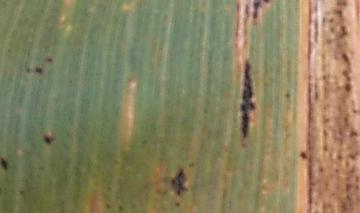tarspot: (239, 59, 256, 137), (172, 169, 188, 196), (43, 133, 55, 145), (252, 1, 260, 19), (339, 23, 348, 36), (298, 148, 308, 159), (1, 155, 8, 170), (348, 128, 358, 138), (341, 51, 350, 62), (344, 81, 352, 92), (332, 7, 343, 15), (35, 65, 43, 74), (25, 65, 33, 74), (36, 164, 46, 171), (283, 91, 291, 99), (173, 199, 181, 207), (186, 160, 194, 168), (18, 188, 25, 196), (46, 55, 53, 62), (118, 205, 124, 212), (260, 1, 270, 4), (106, 204, 111, 208)
